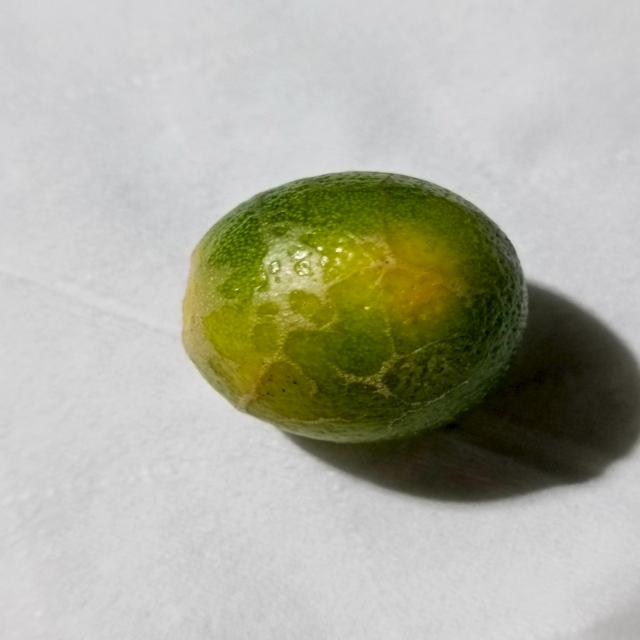thrips: (171, 170, 534, 453)
